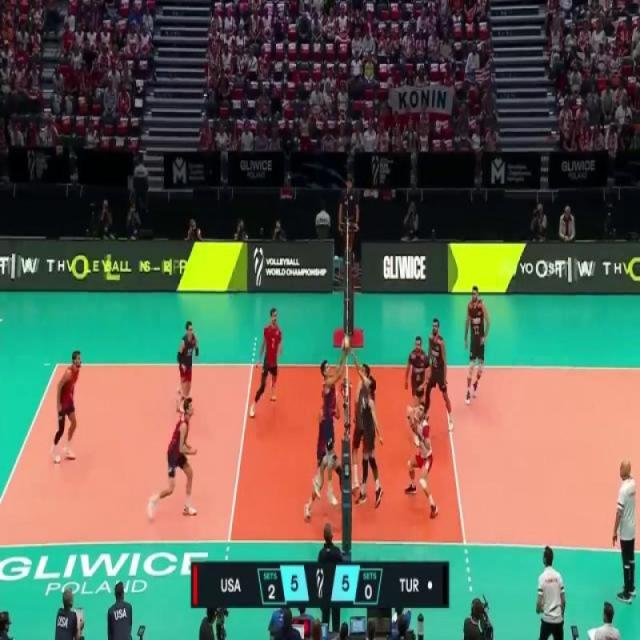volleyball: (340, 332, 352, 356)
